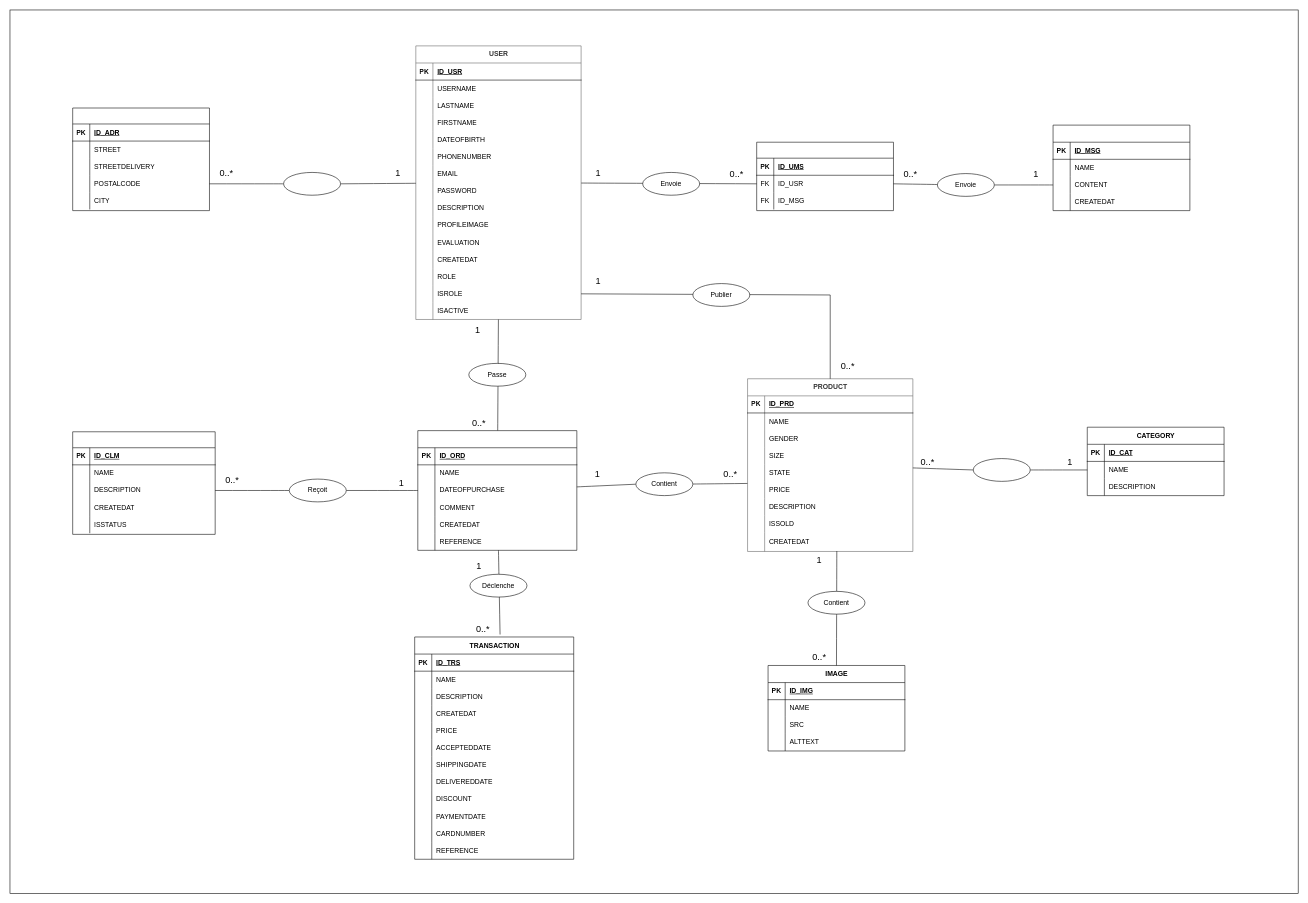
Some shapes in this 1308 by 903 pixel diagram are drawn without their labels. The box of each missing label's shape, as (x1, y1, x2, y2) in pixels:
ADDRESS: (72, 107, 209, 211)
Appartient: (973, 458, 1030, 481)
CLAIM: (72, 431, 215, 534)
MESSAGE: (1053, 125, 1190, 211)
ORDER: (417, 430, 577, 550)
Possède: (283, 172, 341, 195)
USER_MESSAGE: (756, 142, 893, 211)
